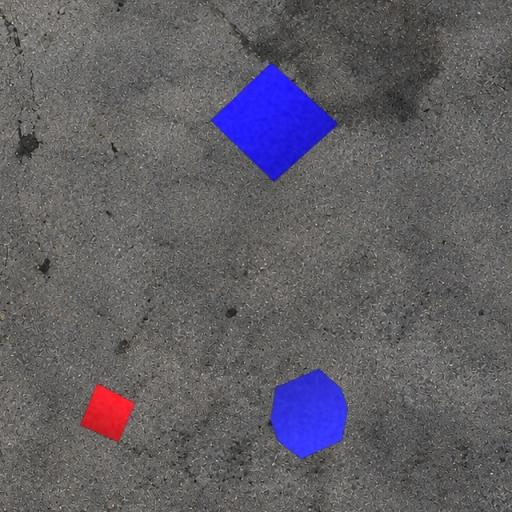BLUE_SQUARE: (210, 62, 339, 182)
RED_SQUARE: (79, 382, 136, 442)
